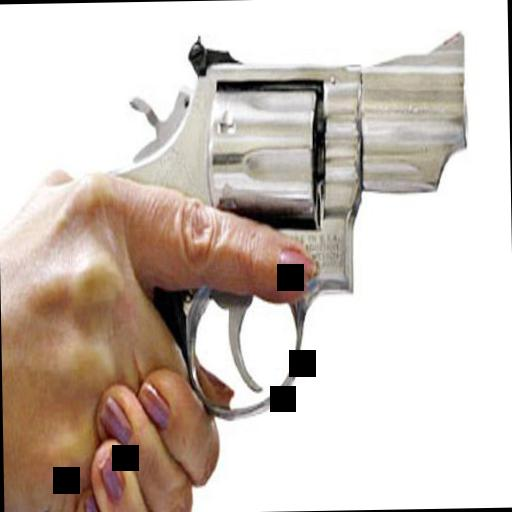Handgun: (90, 28, 474, 420)
